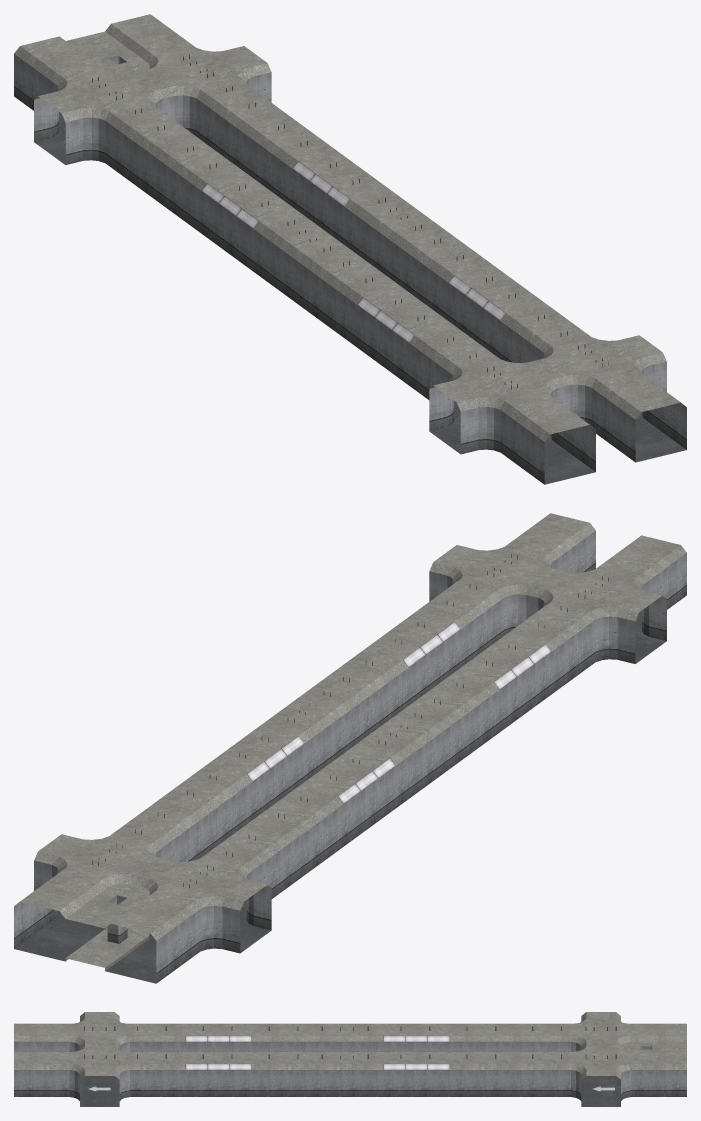
Rendered from aircarpark_05_sfse.obj.
3 views of the same model, one above another, from view 1: azimuth 30°, elevation 25°; view 2: azimuth 150°, elevation 25°; view 3: azimuth 270°, elevation 25° (orthographic). The views are drawn at different scales.
Parts seen in each view (by area): view 1: aircarpark_05_SFSe; view 2: aircarpark_05_SFSe; view 3: aircarpark_05_SFSe.
Boxes of the visible parts, bbox=[...] form: aircarpark_05_SFSe: bbox=[14, 14, 686, 484]; aircarpark_05_SFSe: bbox=[14, 513, 686, 983]; aircarpark_05_SFSe: bbox=[14, 1012, 686, 1106].
Bounding box in the file's own units: 31.21 × 7.7 × 139.
Materials: 8 (8 with a texture image).
